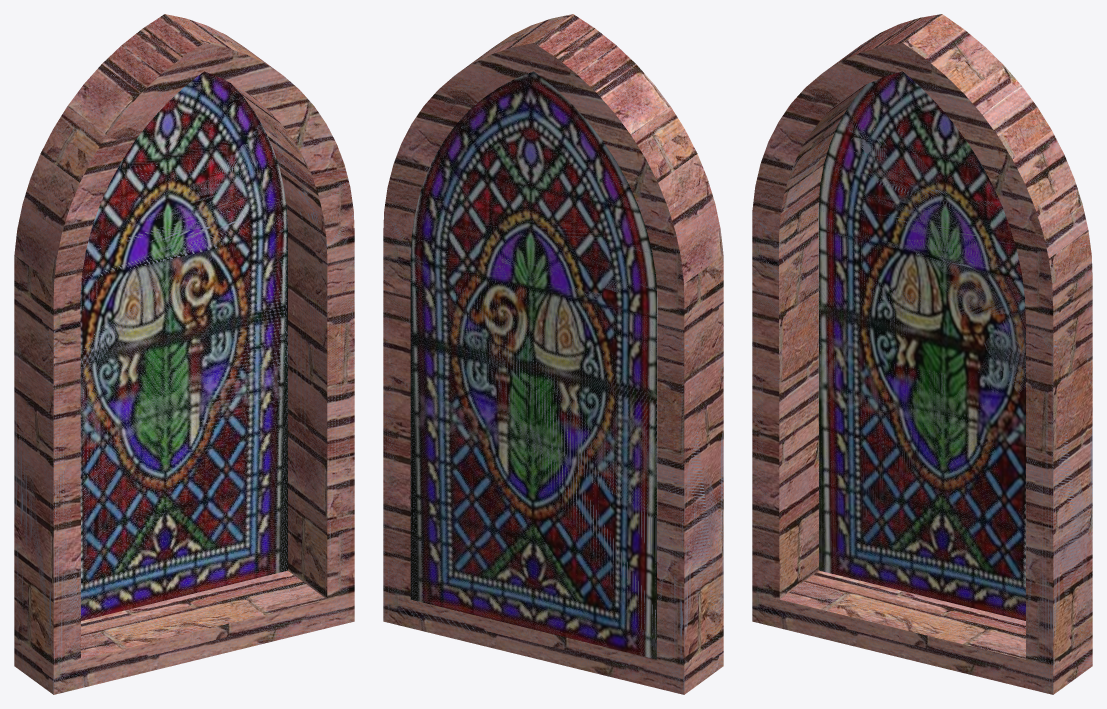
3 renders of one model, left to right at view 1: azimuth 30°, elevation 25°; view 2: azimuth 150°, elevation 25°; view 3: azimuth 330°, elevation 25°, orthographic.
Parts seen in each view (by area): view 1: SketchUp (×3); view 2: SketchUp (×2); view 3: SketchUp (×3).
Boxes of the visible parts, box(x1,y1,x2,y2) form: SketchUp (×3): box(14, 14, 354, 694); SketchUp (×2): box(383, 14, 723, 694); SketchUp (×3): box(752, 14, 1092, 694).
Bounding box in the file's own units: 43.31 × 9.84 × 84.57.
